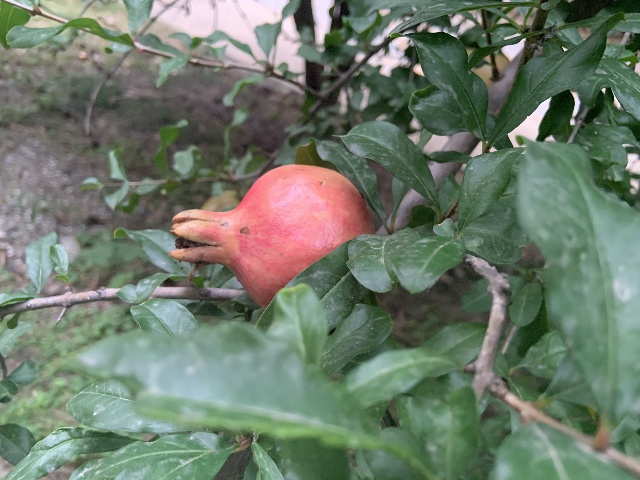ripe: (169, 163, 374, 310)
